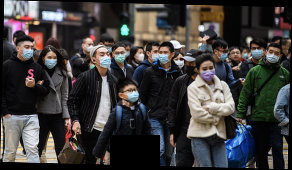with_mask: (199, 64, 216, 82), (96, 50, 112, 69), (124, 86, 140, 103), (265, 48, 281, 65), (20, 43, 35, 61), (44, 55, 58, 70), (250, 45, 264, 60), (158, 49, 171, 65), (172, 56, 186, 70), (183, 61, 196, 76), (113, 49, 126, 63), (103, 42, 115, 54), (218, 48, 229, 61), (84, 41, 95, 54), (135, 50, 146, 62), (150, 48, 159, 62), (240, 50, 248, 60)
without_mask: (229, 49, 241, 61)
